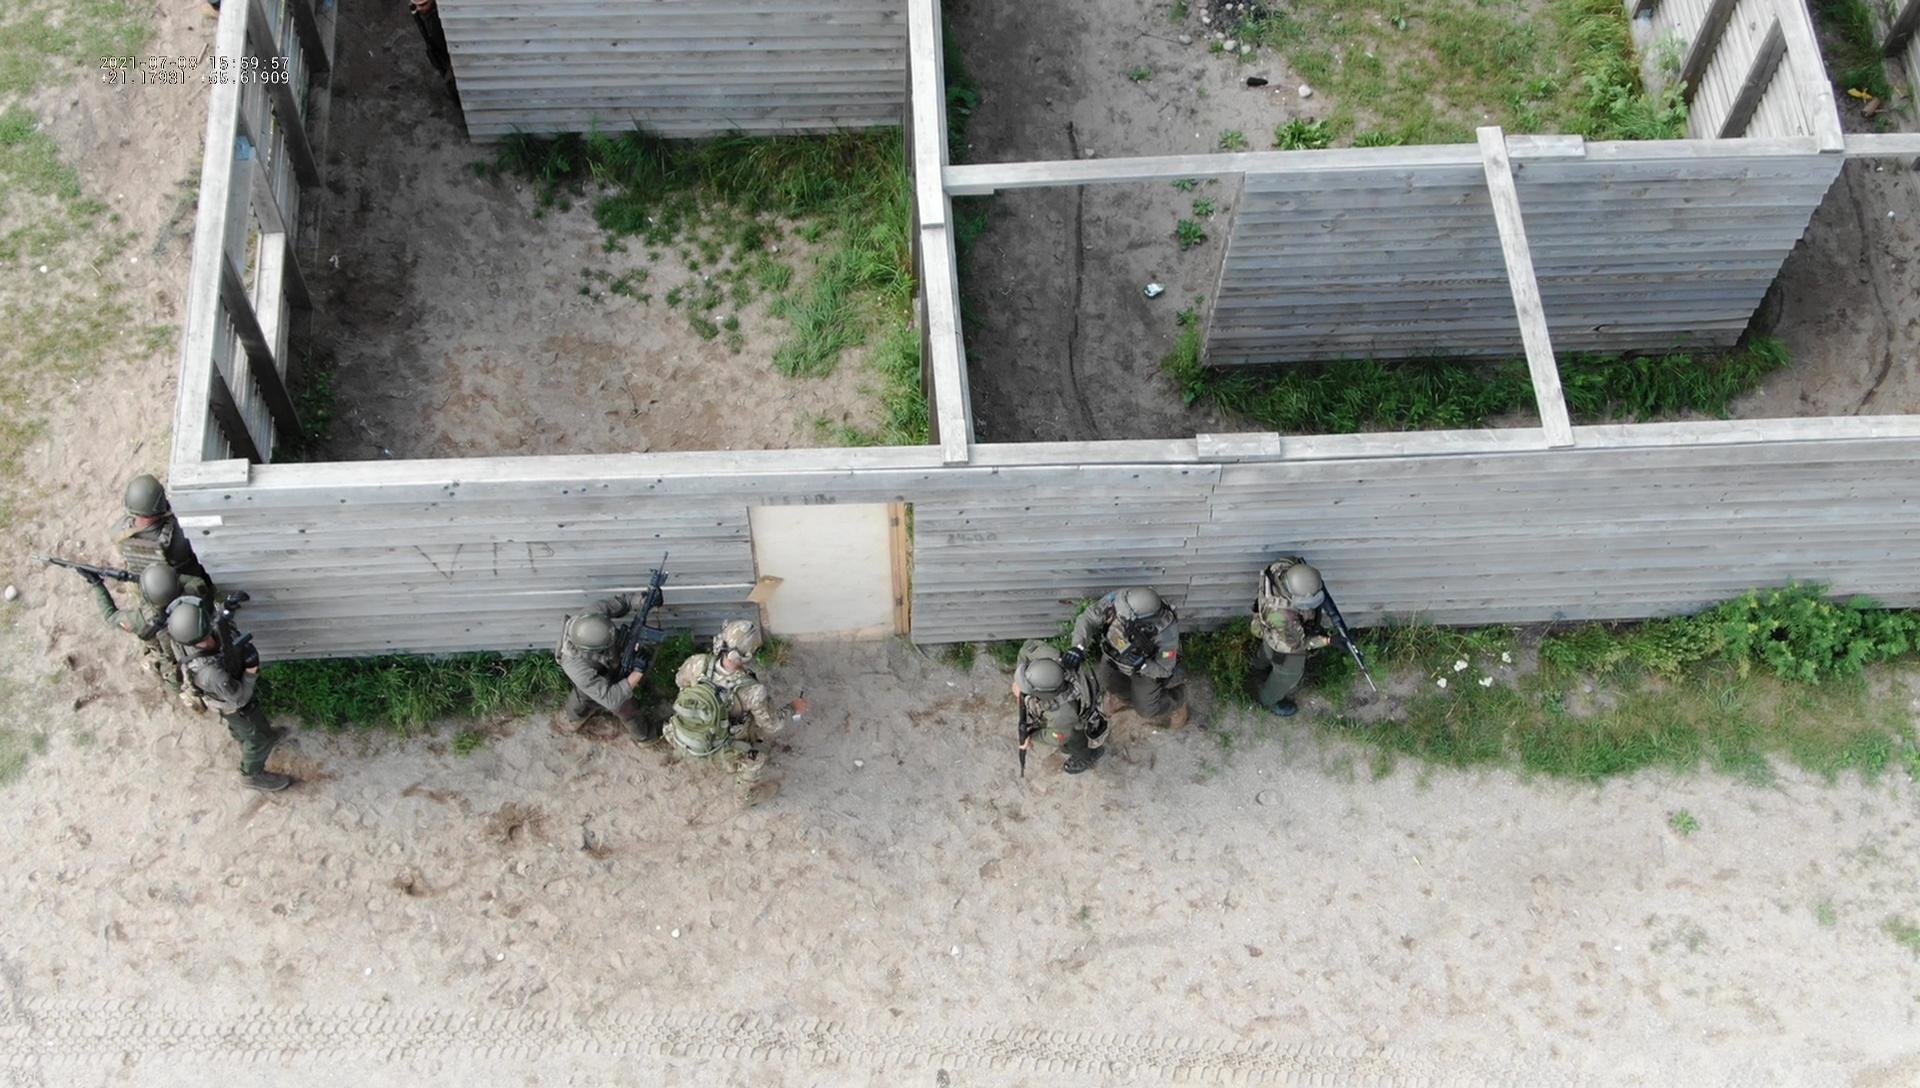Soldier: (1238, 537, 1385, 753), (655, 622, 814, 819), (160, 596, 313, 787), (567, 572, 746, 710), (105, 568, 255, 716), (1002, 607, 1105, 803), (1077, 575, 1189, 736), (109, 473, 204, 588)
